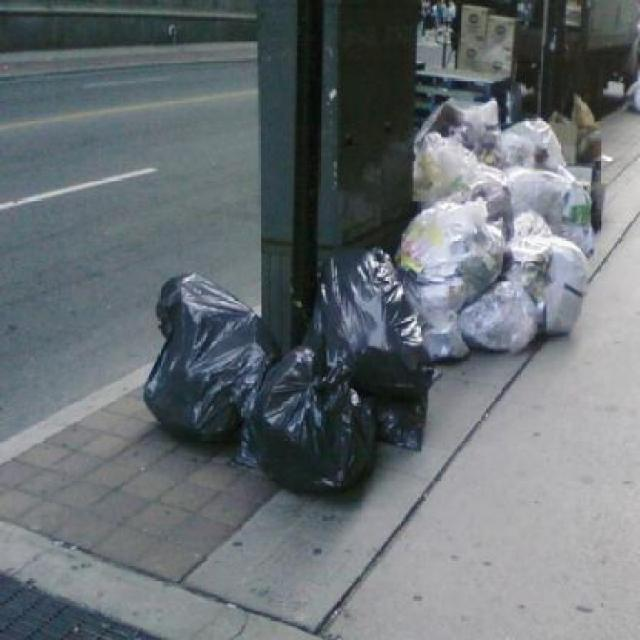garbage: (149, 257, 416, 482), (405, 103, 586, 344)
